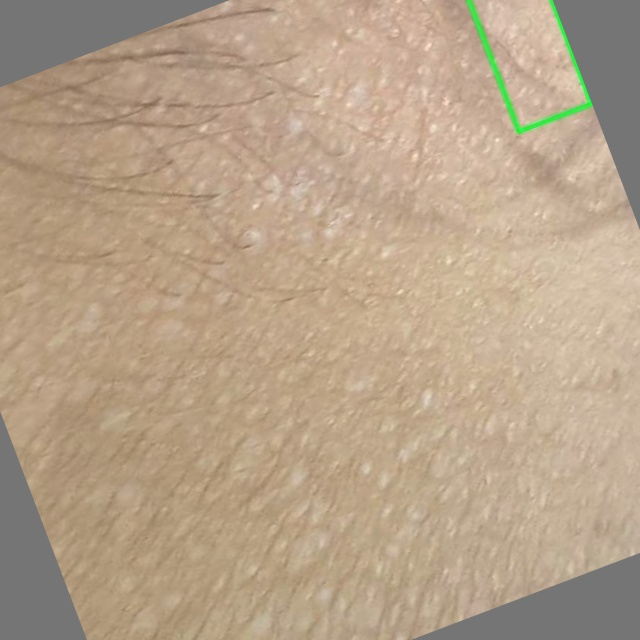Contact Dermatitis: (468, 0, 591, 131)
